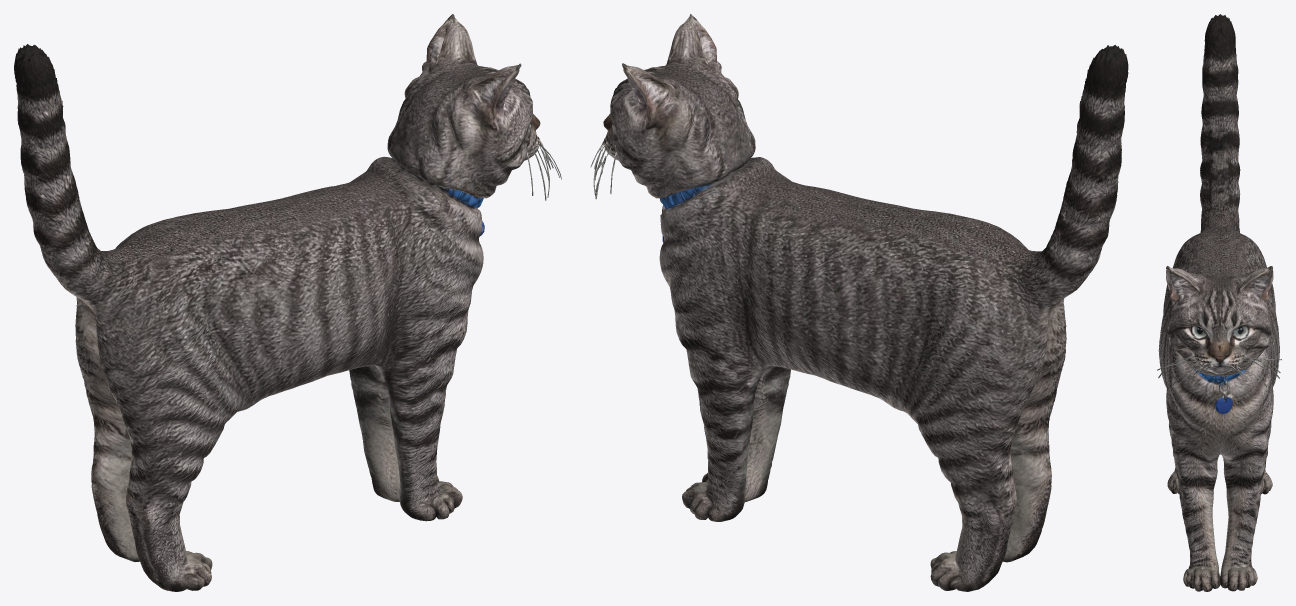
Rendered from BROWSERCAT.glb.
3 views of the same model, side by side, from view 1: azimuth 30°, elevation 25°; view 2: azimuth 150°, elevation 25°; view 3: azimuth 270°, elevation 25° (orthographic). The views are drawn at different scales.
Parts seen in each view (by area): view 1: tripo_node_5904c56a-e67d-42d6-a367-93429a6f9c1d; view 2: tripo_node_5904c56a-e67d-42d6-a367-93429a6f9c1d; view 3: tripo_node_5904c56a-e67d-42d6-a367-93429a6f9c1d.
Part boxes in pixels (left/top/right/bottom): tripo_node_5904c56a-e67d-42d6-a367-93429a6f9c1d: left=14, top=14, right=561, bottom=591; tripo_node_5904c56a-e67d-42d6-a367-93429a6f9c1d: left=590, top=14, right=1128, bottom=591; tripo_node_5904c56a-e67d-42d6-a367-93429a6f9c1d: left=1157, top=14, right=1281, bottom=591.
Bounding box in the file's own units: 0.98 × 1 × 0.2658.
1 material, 1 textured.
